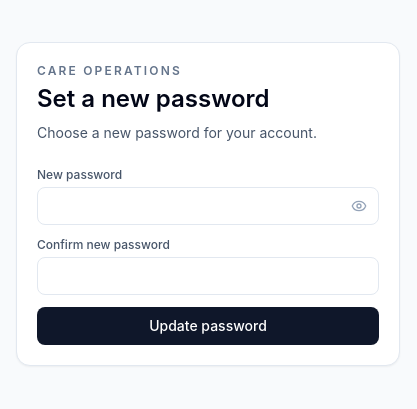
Test case: ResetPasswordPage › never renders a raw error object as {}
Type "longenough1" into the password field labelled "New password" at (208, 206), box x1=37 y1=187 x2=379 y2=225
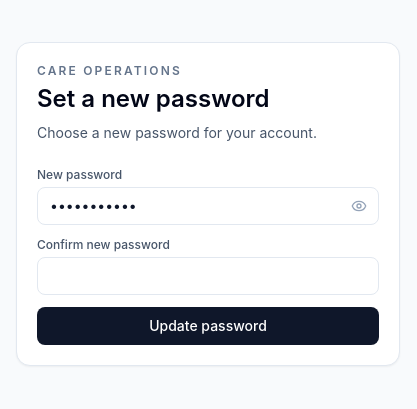
Type "longenough1" into the password field labelled "Confirm new password" at (208, 276), box x1=37 y1=257 x2=379 y2=295
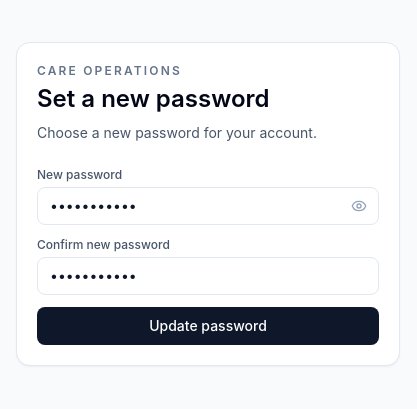
Click the button "Update password" at (208, 326), box x1=37 y1=307 x2=379 y2=345
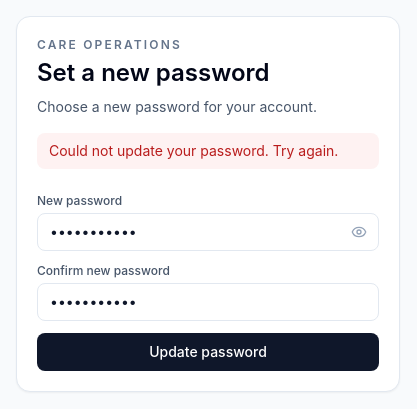
Now the text "Could not update your password. Try again." is shown, box x1=37 y1=133 x2=379 y2=169
